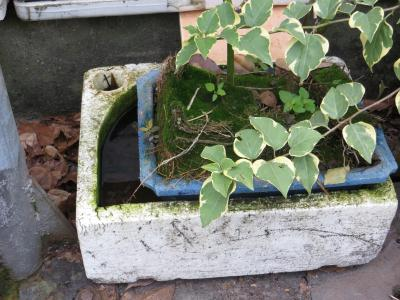styrofoam: (74, 56, 398, 281)
